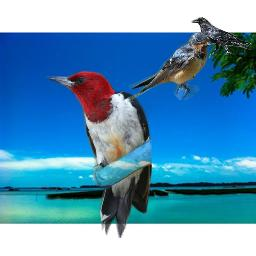Crow: (191, 17, 254, 55)
Swallow: (127, 32, 212, 103)
Woodpecker: (46, 70, 152, 238)
